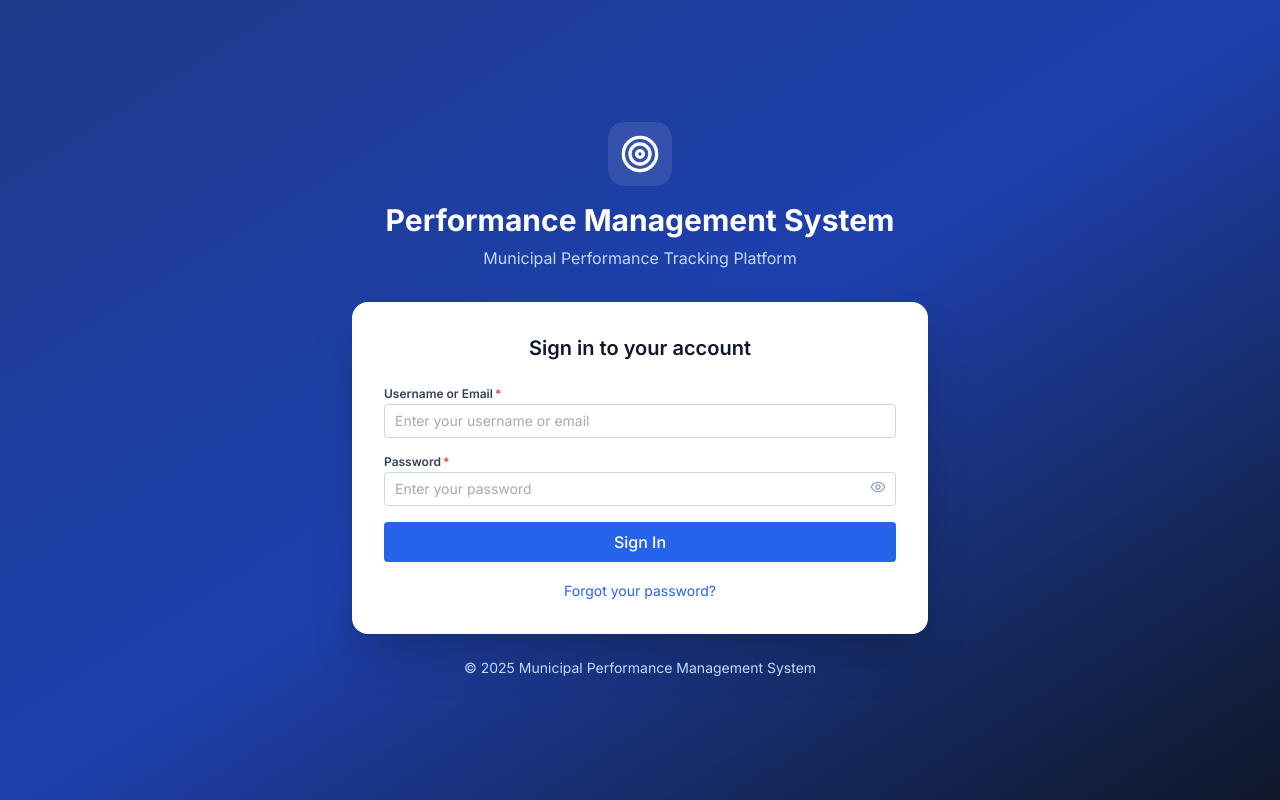
MFA login challenge › uses an enumeration-safe forgot-password flow
Step 1. Click the button "Forgot your password?" → [640, 591], box 384,581 -> 896,601
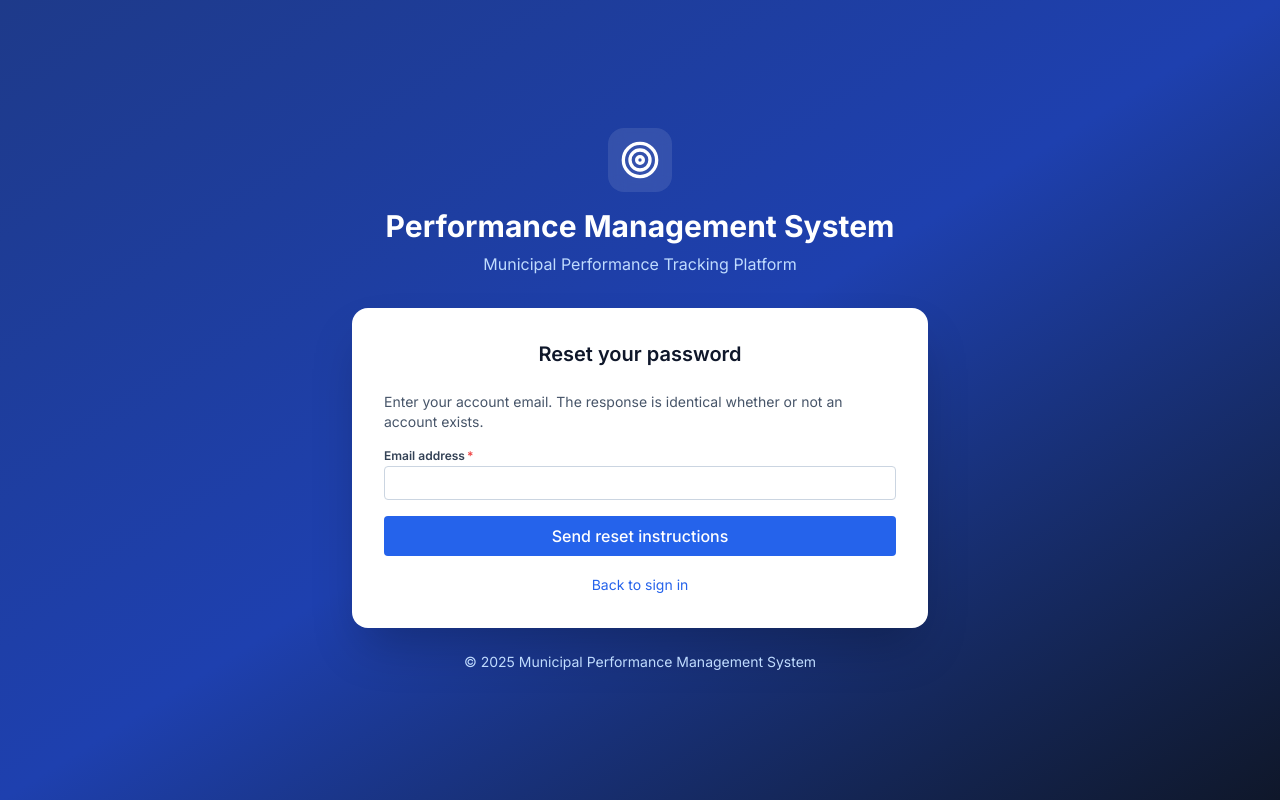
Step 2. Type "person@example.test" into the field labelled "Email address*" → [640, 483], box 384,466 -> 896,500
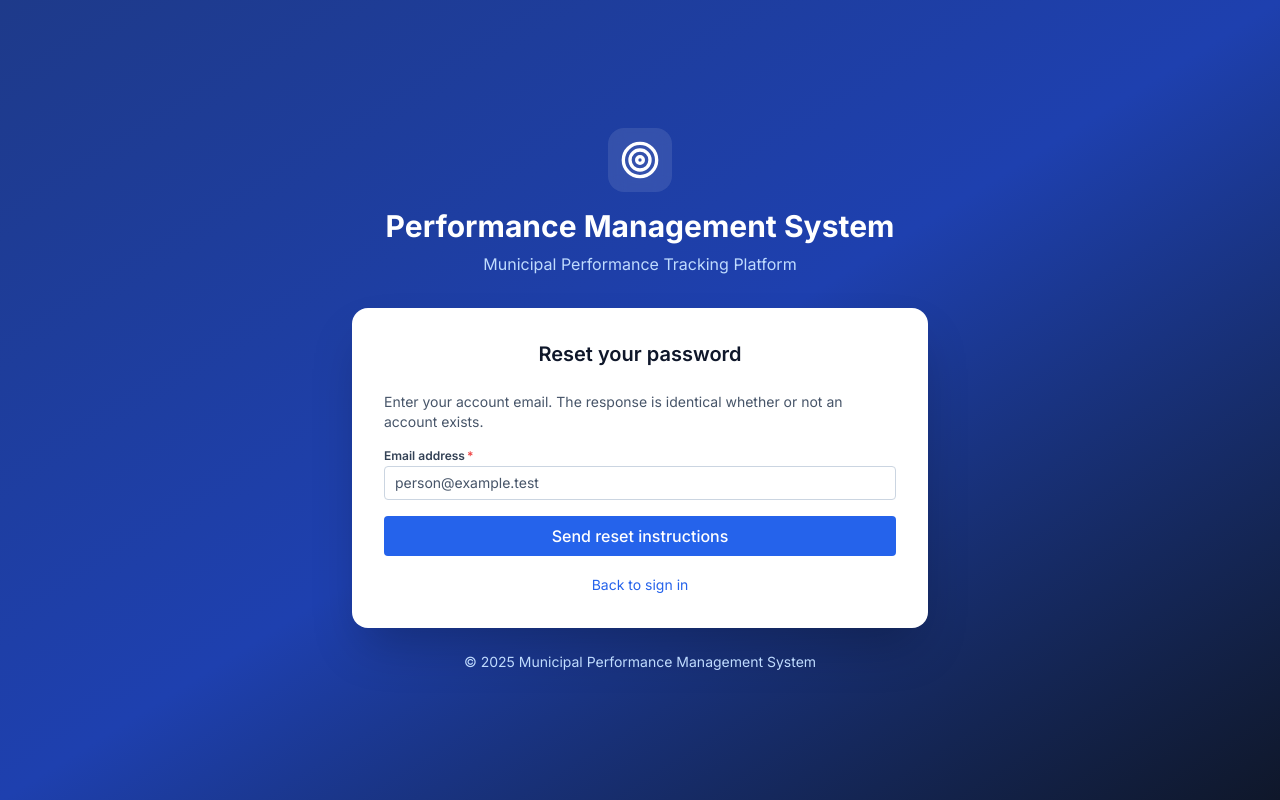
Step 3. Click the button "Send reset instructions" → [640, 536], box 384,516 -> 896,556
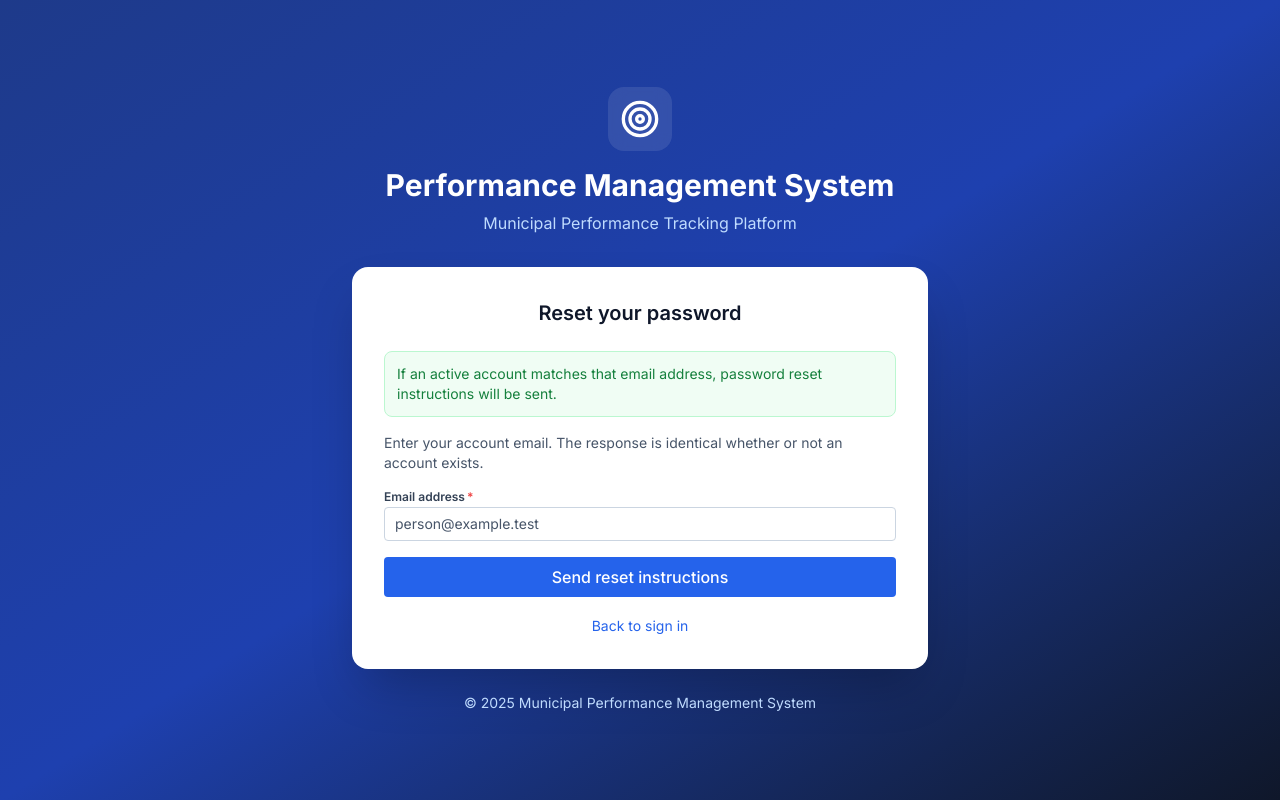
Expected: the text "If an active account matches" is shown, 397,365 -> 822,402
